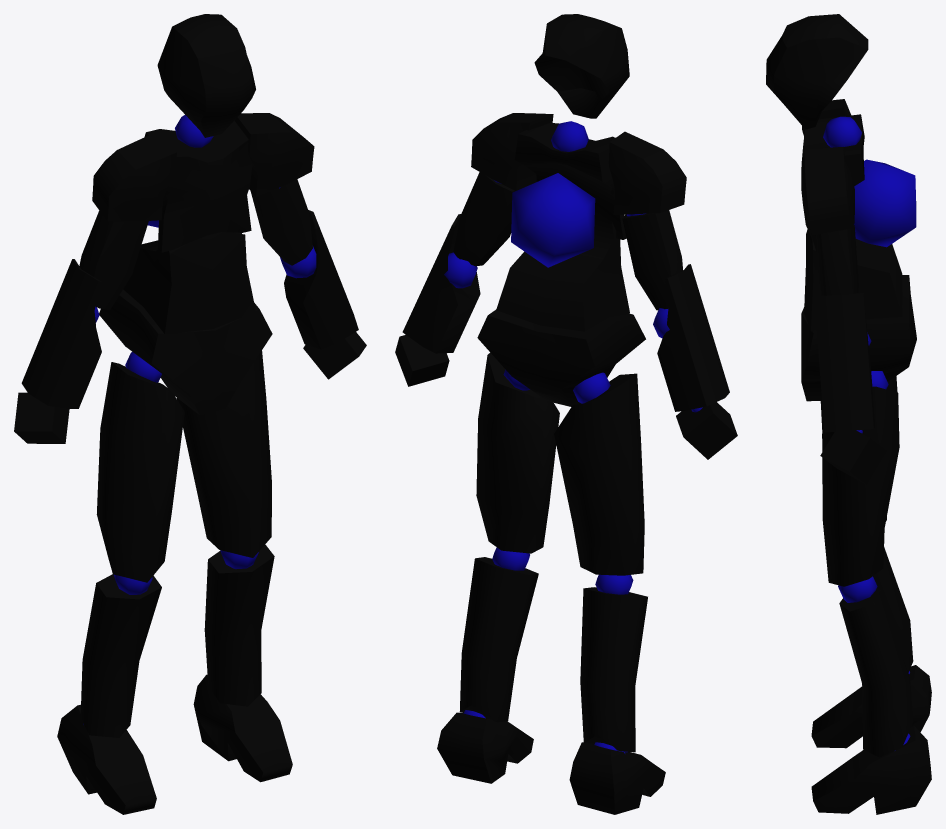
File: robot.FBX
3 views of the same model, side by side, from view 1: azimuth 30°, elevation 25°; view 2: azimuth 150°, elevation 25°; view 3: azimuth 270°, elevation 25° (orthographic). The views are drawn at different scales.
Parts seen in each view (by area): view 1: Cylinder002, Cylinder003, Box004, Box005, Box006, Cylinder001, Box011, Cylinder004, Box009, Box001, Box012, Box007 (+7 smaller); view 2: Cylinder002, Cylinder003, Box004, Cylinder001, Box005, Cylinder004, Box011, Box009, GeoSphere001, Box007, Box001, Box006 (+12 smaller); view 3: Cylinder003, Box011, Cylinder004, Box014, Box012, GeoSphere001, Box004, Box005, Box016, Box001, Box015, Box013 (+5 smaller).
Part boxes in pixels (left/top/right/bottom): Cylinder002: left=96, top=362, right=184, bottom=582; Cylinder003: left=176, top=350, right=271, bottom=557; Box004: left=99, top=289, right=272, bottom=414; Box005: left=123, top=232, right=255, bottom=334; Box006: left=144, top=120, right=252, bottom=252; Cylinder001: left=80, top=574, right=161, bottom=737; Box011: left=157, top=14, right=255, bottom=137; Cylinder004: left=204, top=544, right=274, bottom=706; Box009: left=21, top=259, right=101, bottom=408; Box001: left=57, top=704, right=156, bottom=814; Box012: left=193, top=674, right=292, bottom=782; Box007: left=92, top=134, right=176, bottom=221; Cylinder002: left=554, top=373, right=644, bottom=575; Cylinder003: left=476, top=352, right=559, bottom=553; Box004: left=477, top=309, right=645, bottom=406; Cylinder001: left=580, top=587, right=647, bottom=752; Box005: left=496, top=212, right=629, bottom=331; Cylinder004: left=459, top=557, right=538, bottom=722; Box011: left=534, top=14, right=629, bottom=118; Box009: left=657, top=264, right=729, bottom=411; GeoSphere001: left=511, top=173, right=595, bottom=267; Box007: left=608, top=131, right=686, bottom=214; Box001: left=569, top=742, right=665, bottom=814; Box006: left=514, top=122, right=626, bottom=239; Cylinder003: left=822, top=386, right=899, bottom=586; Box011: left=766, top=14, right=868, bottom=129; Cylinder004: left=839, top=588, right=913, bottom=757; Box014: left=814, top=292, right=875, bottom=432; Box012: left=811, top=726, right=931, bottom=814; GeoSphere001: left=854, top=159, right=916, bottom=247; Box004: left=801, top=275, right=916, bottom=401; Box005: left=804, top=229, right=902, bottom=331; Box016: left=801, top=147, right=854, bottom=235; Box001: left=811, top=665, right=931, bottom=748; Box015: left=816, top=225, right=858, bottom=295; Box013: left=820, top=430, right=886, bottom=484.
Bounding box in the file's own units: 0.937 × 1.95 × 0.3906.
